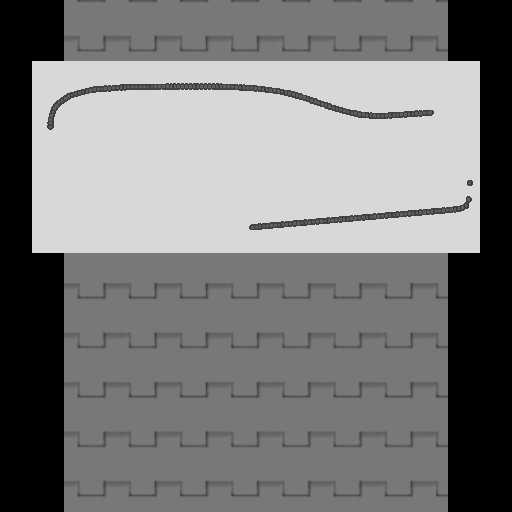Defect: (42, 128, 247, 242)
